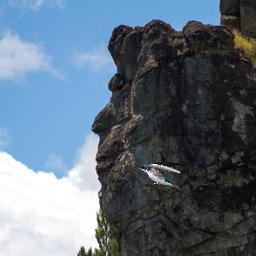Swallow: (138, 161, 186, 190)
